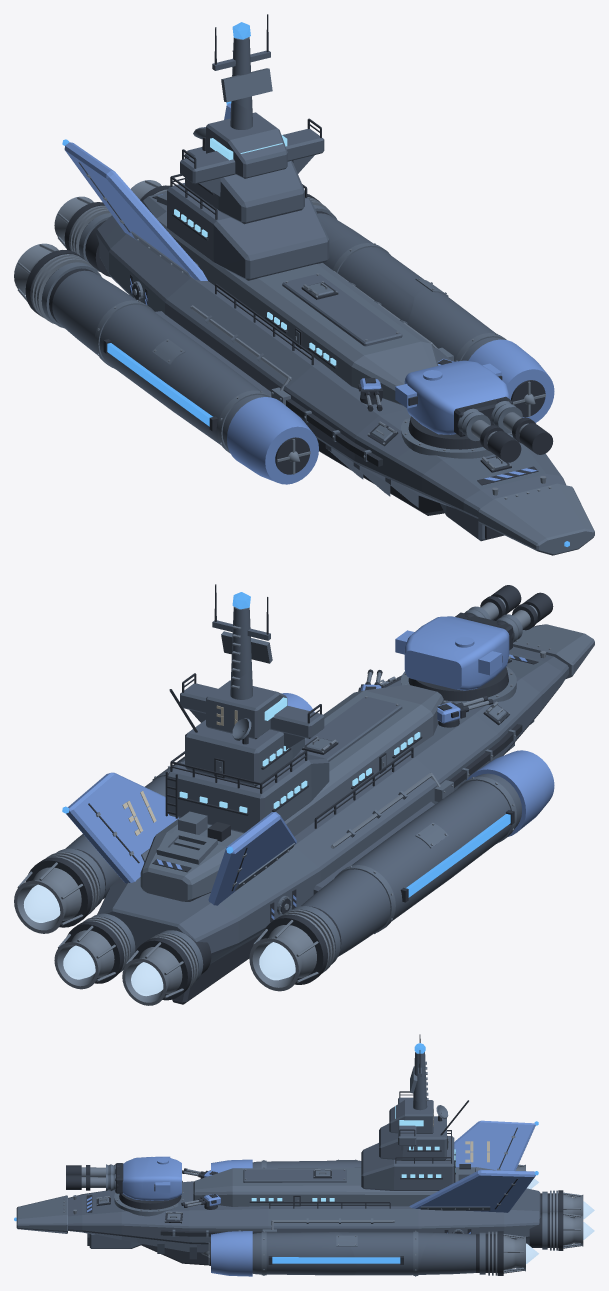
Rendered from horizon_cruiser_wreck.glb.
The picture shows the model from 3 angles, top to bottom: view 1: azimuth 30°, elevation 25°; view 2: azimuth 150°, elevation 25°; view 3: azimuth 270°, elevation 25°; orthographic projection. The views are drawn at different scales.
Parts seen in each view (by area): view 1: horizon_cruiser_wreck_01, horizon_cruiser_wreck_07, horizon_cruiser_wreck_04, horizon_cruiser_wreck_12, horizon_cruiser_wreck_08, horizon_cruiser_wreck_11, horizon_cruiser_wreck_02, horizon_cruiser_wreck_10, horizon_cruiser_wreck_03, horizon_cruiser_wreck_05, horizon_cruiser_wreck_09, horizon_cruiser_wreck_06 (+1 smaller); view 2: horizon_cruiser_wreck_10, horizon_cruiser_wreck_07, horizon_cruiser_wreck_08, horizon_cruiser_wreck_00, horizon_cruiser_wreck_09, horizon_cruiser_wreck_03, horizon_cruiser_wreck_12, horizon_cruiser_wreck_04, horizon_cruiser_wreck_01, horizon_cruiser_wreck_11, horizon_cruiser_wreck_06, horizon_cruiser_wreck_02 (+1 smaller); view 3: horizon_cruiser_wreck_02, horizon_cruiser_wreck_00, horizon_cruiser_wreck_08, horizon_cruiser_wreck_01, horizon_cruiser_wreck_05, horizon_cruiser_wreck_11, horizon_cruiser_wreck_10, horizon_cruiser_wreck_12, horizon_cruiser_wreck_09, horizon_cruiser_wreck_06, horizon_cruiser_wreck_04, horizon_cruiser_wreck_07.
Boxes of the visible parts, x1,y1,x2,y2 form: horizon_cruiser_wreck_01: (395,376,594,555); horizon_cruiser_wreck_07: (97,259,274,429); horizon_cruiser_wreck_04: (190,366,375,484); horizon_cruiser_wreck_12: (171,96,314,265); horizon_cruiser_wreck_08: (328,326,502,515); horizon_cruiser_wreck_11: (243,243,415,470); horizon_cruiser_wreck_02: (179,144,435,317); horizon_cruiser_wreck_10: (62,139,200,302); horizon_cruiser_wreck_03: (14,243,163,369); horizon_cruiser_wreck_05: (407,285,554,422); horizon_cruiser_wreck_09: (54,180,169,277); horizon_cruiser_wreck_06: (212,14,324,147); horizon_cruiser_wreck_10: (134,734,317,936); horizon_cruiser_wreck_07: (310,765,491,921); horizon_cruiser_wreck_08: (333,621,525,752); horizon_cruiser_wreck_00: (14,772,149,933); horizon_cruiser_wreck_09: (54,902,224,1005); horizon_cruiser_wreck_03: (223,871,394,991); horizon_cruiser_wreck_12: (184,657,328,816); horizon_cruiser_wreck_04: (413,730,554,857); horizon_cruiser_wreck_01: (430,585,594,729); horizon_cruiser_wreck_11: (299,704,418,799); horizon_cruiser_wreck_06: (169,584,271,714); horizon_cruiser_wreck_02: (145,701,319,856); horizon_cruiser_wreck_02: (337,1140,453,1276); horizon_cruiser_wreck_00: (419,1169,561,1275); horizon_cruiser_wreck_08: (136,1156,260,1265); horizon_cruiser_wreck_01: (14,1157,149,1248); horizon_cruiser_wreck_05: (201,1208,356,1276); horizon_cruiser_wreck_11: (257,1149,369,1232); horizon_cruiser_wreck_10: (437,1120,538,1205); horizon_cruiser_wreck_12: (364,1077,452,1152); horizon_cruiser_wreck_09: (524,1188,594,1250); horizon_cruiser_wreck_06: (398,1034,468,1142); horizon_cruiser_wreck_04: (210,1159,292,1172); horizon_cruiser_wreck_07: (292,1159,361,1167).
Size of the model in its own units: 3.03 by 3.55 by 8.12.
